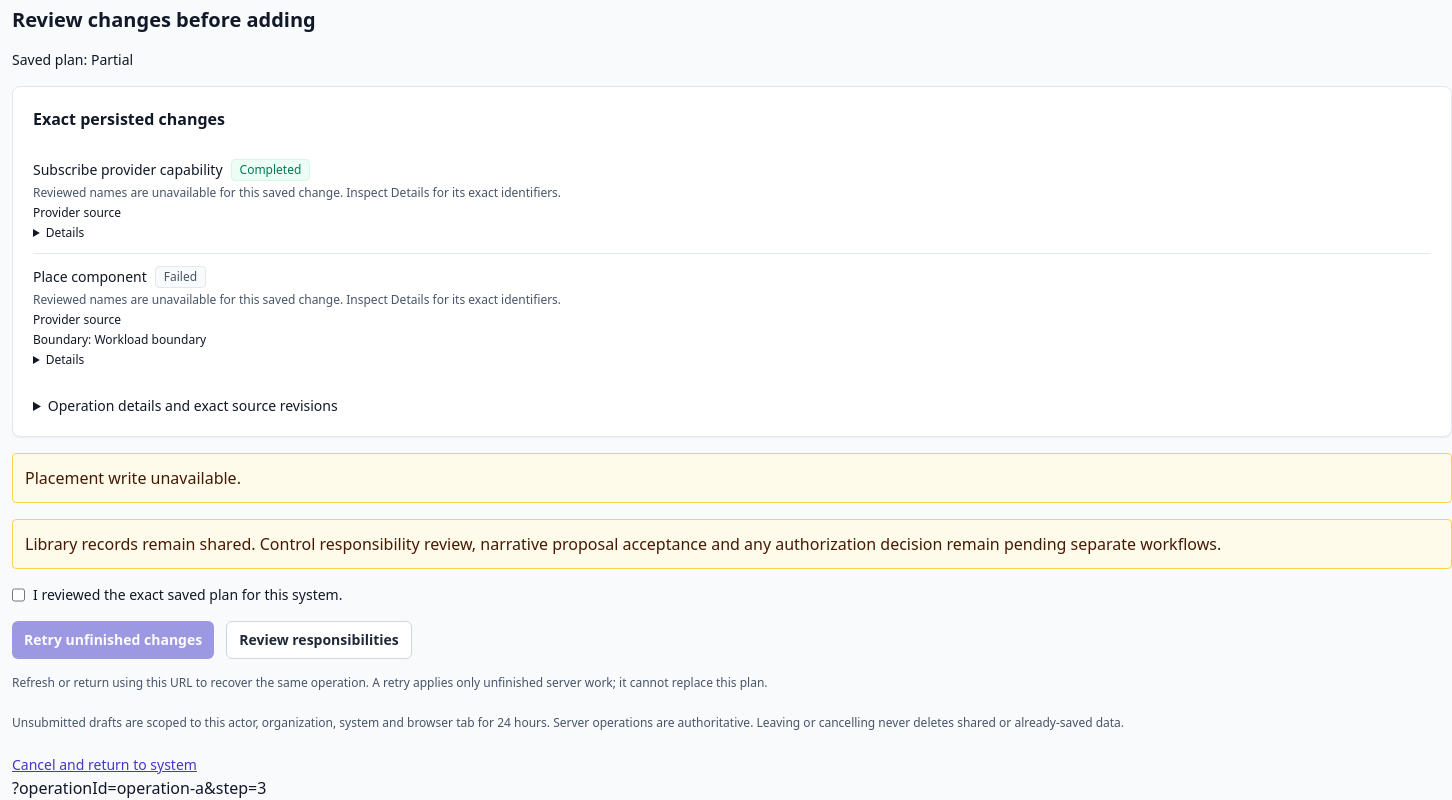
Test case: Three-step selected-system capability setup › resumes only unfinished server work with the same operation ID after partial success
This screenshot has width=1452, height=800.
(page scrolled)
Expected: the text "Placement write unavailable." is shown, [12,453,1451,503]
Click the checkbox labelled "I reviewed the exact saved plan for this system.": point(18, 595) [12,585,25,605]
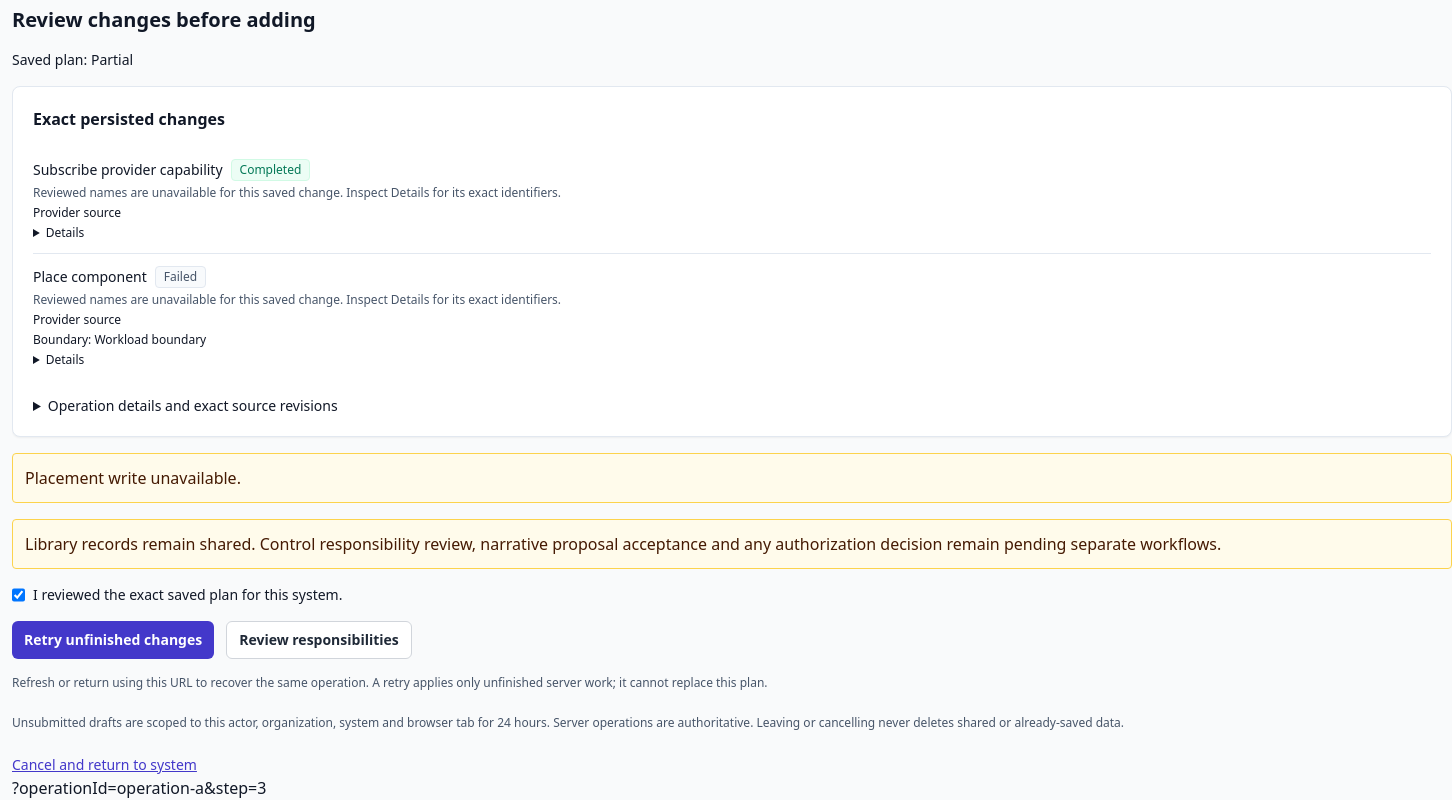
Click the button "Retry unfinished changes": point(113, 640) [12,621,214,659]
(page scrolled)
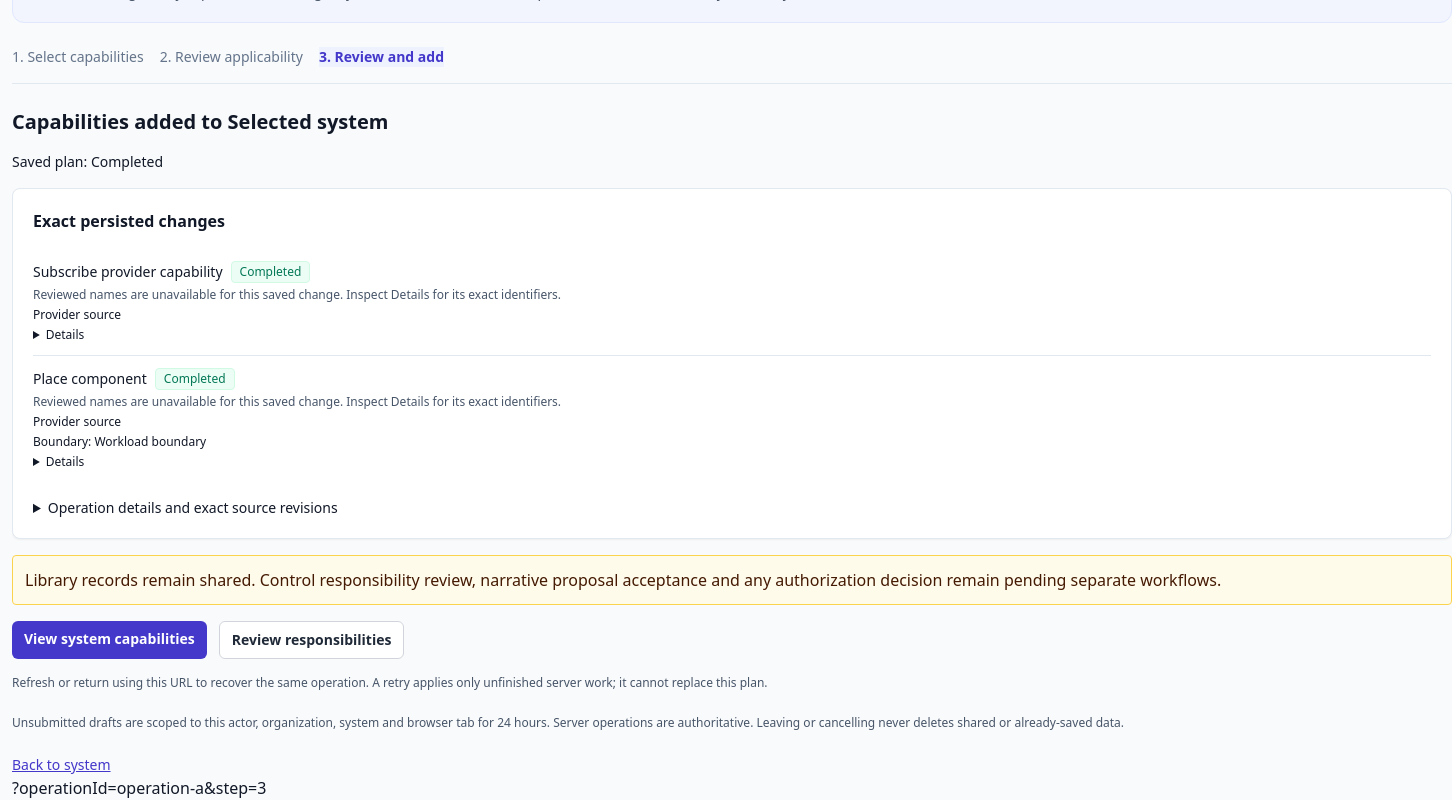
Expected: the heading "Capabilities added to Selected system" is shown, [12,108,388,135]
